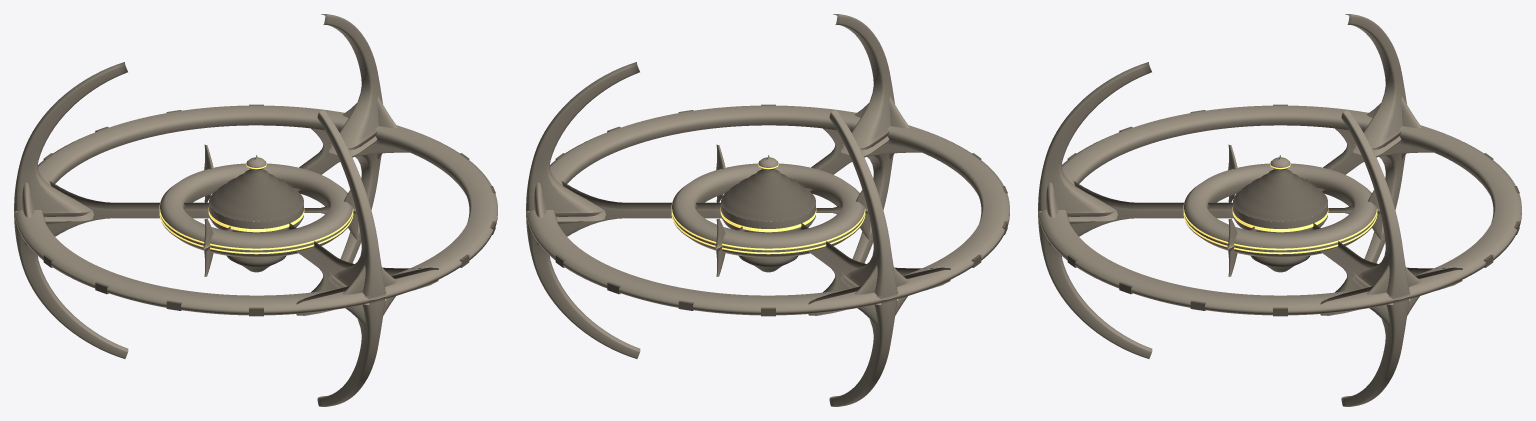
Rendered from deep-space-nine.glb.
3 views of the same model, side by side, from view 1: azimuth 30°, elevation 25°; view 2: azimuth 150°, elevation 25°; view 3: azimuth 270°, elevation 25° (orthographic).
Visible parts, largest first — view 1: docking_ring, habitat_ring, crossover_bridges, upper_pylon_3, upper_pylon_1, upper_pylon_2, upper_core, lower_pylon_3, lower_pylon_1, windows, lower_pylon_2, promenade (+3 smaller); view 2: docking_ring, habitat_ring, crossover_bridges, upper_pylon_2, upper_pylon_3, upper_pylon_1, upper_core, lower_pylon_2, lower_pylon_3, windows, lower_pylon_1, promenade (+3 smaller); view 3: docking_ring, habitat_ring, crossover_bridges, upper_pylon_1, upper_pylon_2, upper_pylon_3, upper_core, lower_pylon_1, lower_pylon_2, windows, lower_pylon_3, promenade (+3 smaller).
Boxes of the visible parts, x1,y1,x2,y2 form: docking_ring: (15,105,497,315); habitat_ring: (160,163,352,257); crossover_bridges: (46,128,438,315); upper_pylon_3: (14,62,127,221); upper_pylon_1: (317,110,397,304); upper_pylon_2: (321,14,397,155); upper_core: (209,169,303,221); lower_pylon_3: (14,211,128,358); lower_pylon_1: (317,272,395,406); windows: (159,163,353,254); lower_pylon_2: (330,132,383,263); promenade: (209,203,303,233); docking_ring: (527,105,1009,315); habitat_ring: (672,163,864,257); crossover_bridges: (558,128,950,315); upper_pylon_2: (526,62,639,221); upper_pylon_3: (829,110,909,304); upper_pylon_1: (833,14,909,155); upper_core: (721,169,815,221); lower_pylon_2: (526,211,640,358); lower_pylon_3: (829,272,907,406); windows: (671,163,865,254); lower_pylon_1: (842,132,895,263); promenade: (721,203,815,233); docking_ring: (1039,105,1521,315); habitat_ring: (1184,163,1376,257); crossover_bridges: (1070,128,1462,315); upper_pylon_1: (1038,62,1151,221); upper_pylon_2: (1341,110,1421,304); upper_pylon_3: (1345,14,1421,155); upper_core: (1233,169,1327,221); lower_pylon_1: (1038,211,1152,358); lower_pylon_2: (1341,272,1419,406); windows: (1183,163,1377,254); lower_pylon_3: (1354,132,1407,263); promenade: (1233,203,1327,233).
Size of the model in its own units: 1452 by 980 by 1455.
